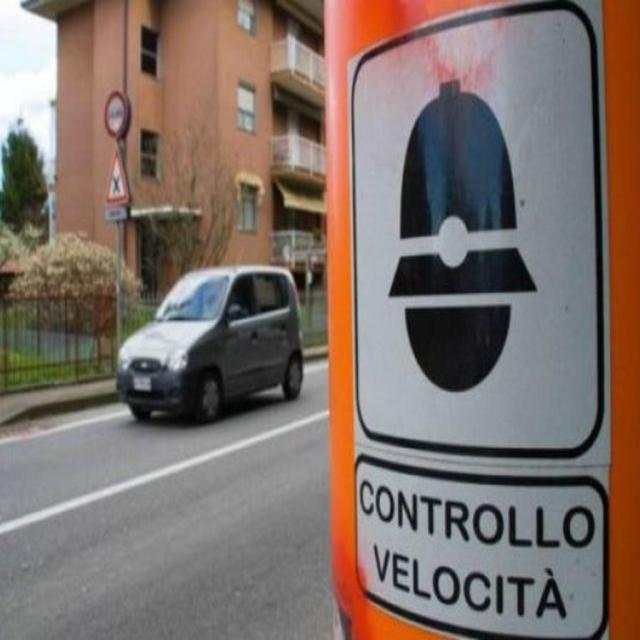car: (106, 255, 308, 427)
